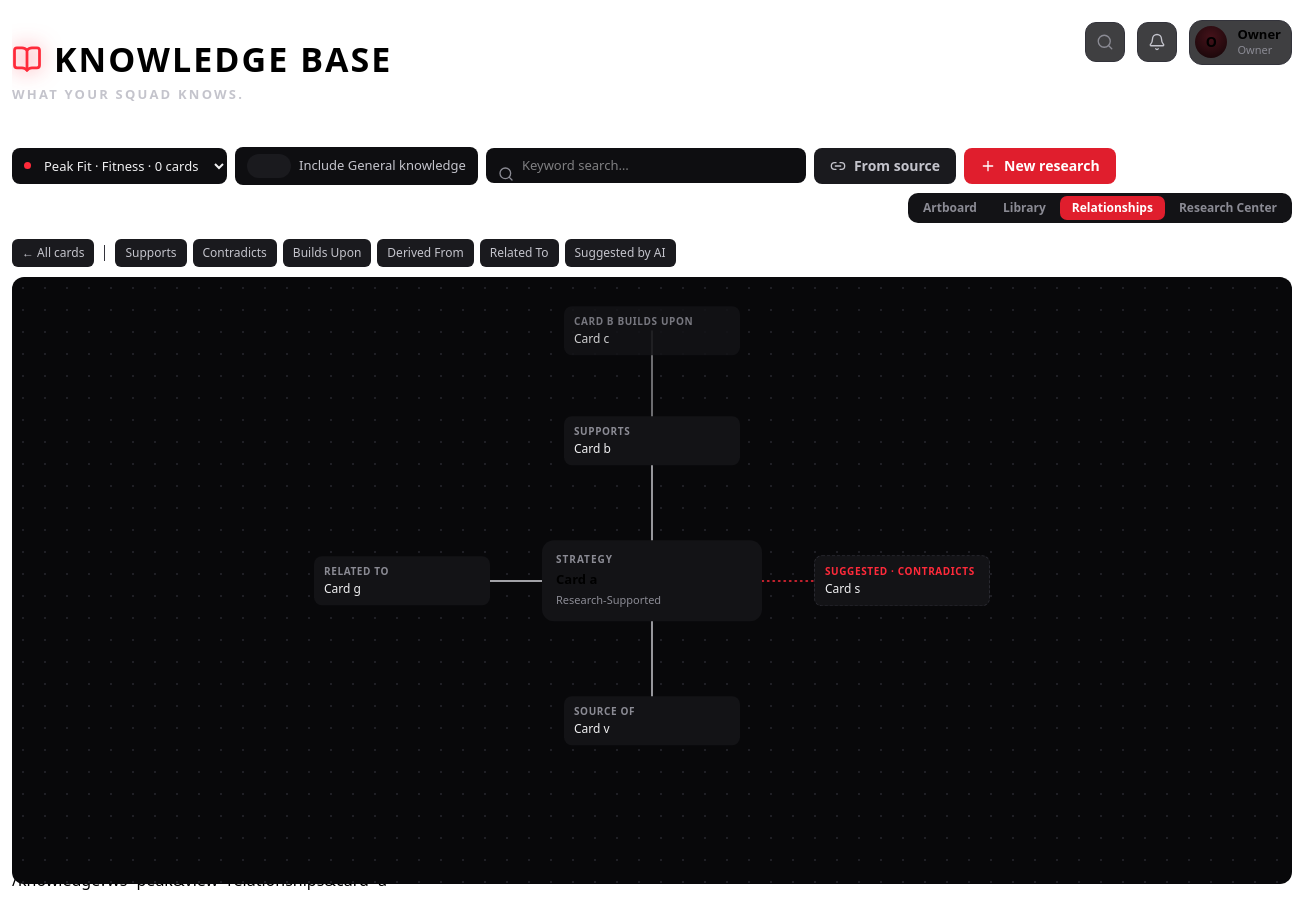
Test: Knowledge Relationships › filters by relationship type and hides AI suggestions
The width and height of the screenshot is (1304, 900).
Expected: the button "Supports Card b" is shown, [564, 416, 740, 465]
Click the button "Builds Upon".
click(327, 252)  # box [283, 238, 371, 266]
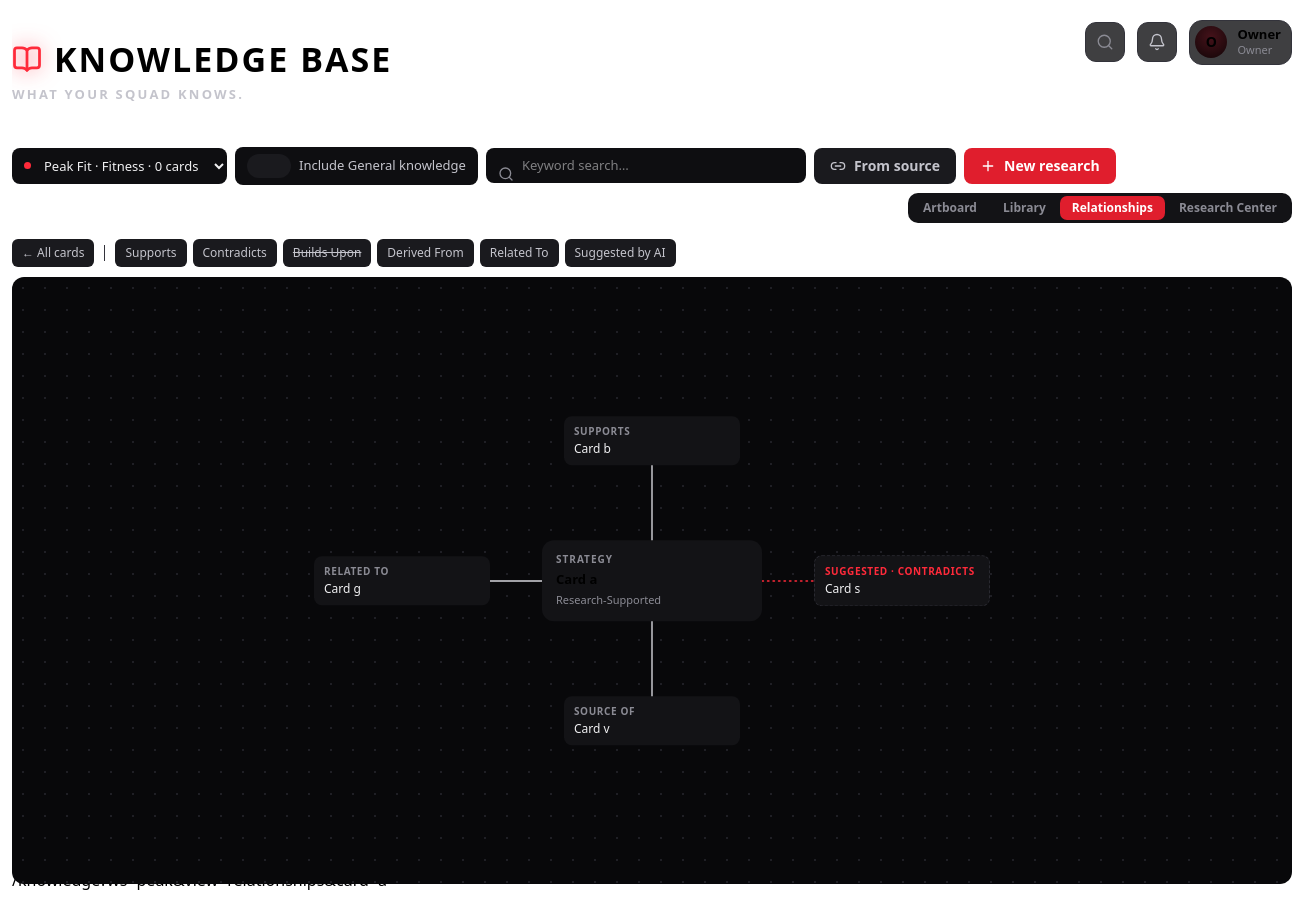
Expected: the button "Card c" is gone
Click the button "Suggested by AI".
click(620, 252)  # box [564, 238, 676, 266]
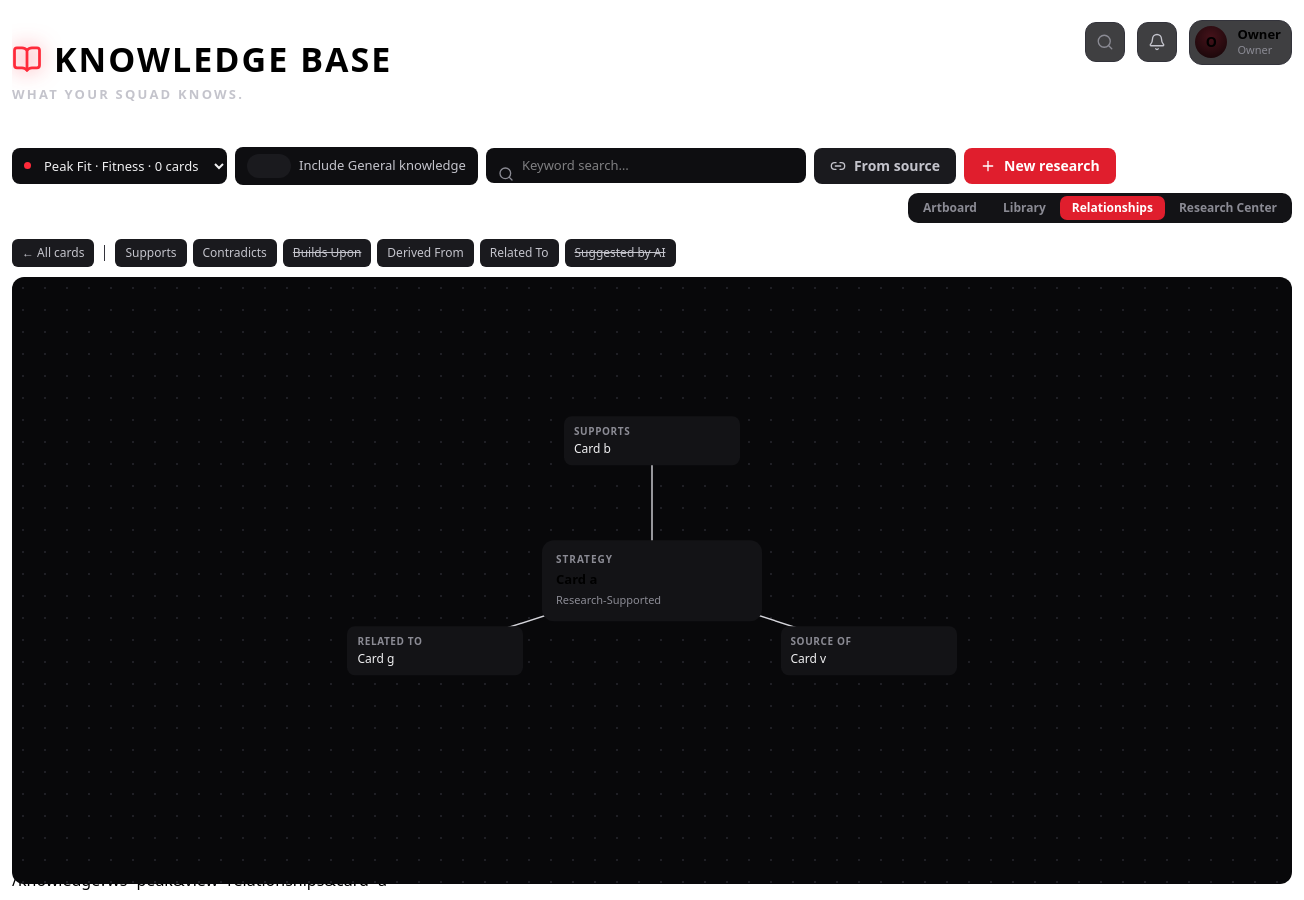
Expected: the button "Supports Card b" is shown, [564, 416, 740, 465]
Expected: the button "Card s" is gone
